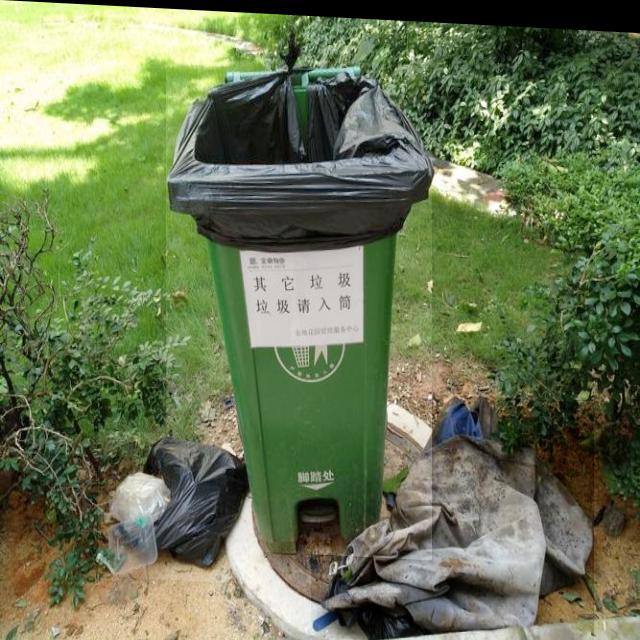garbage: (311, 385, 594, 640), (98, 429, 248, 581)
garbage_bin: (166, 51, 432, 555)
